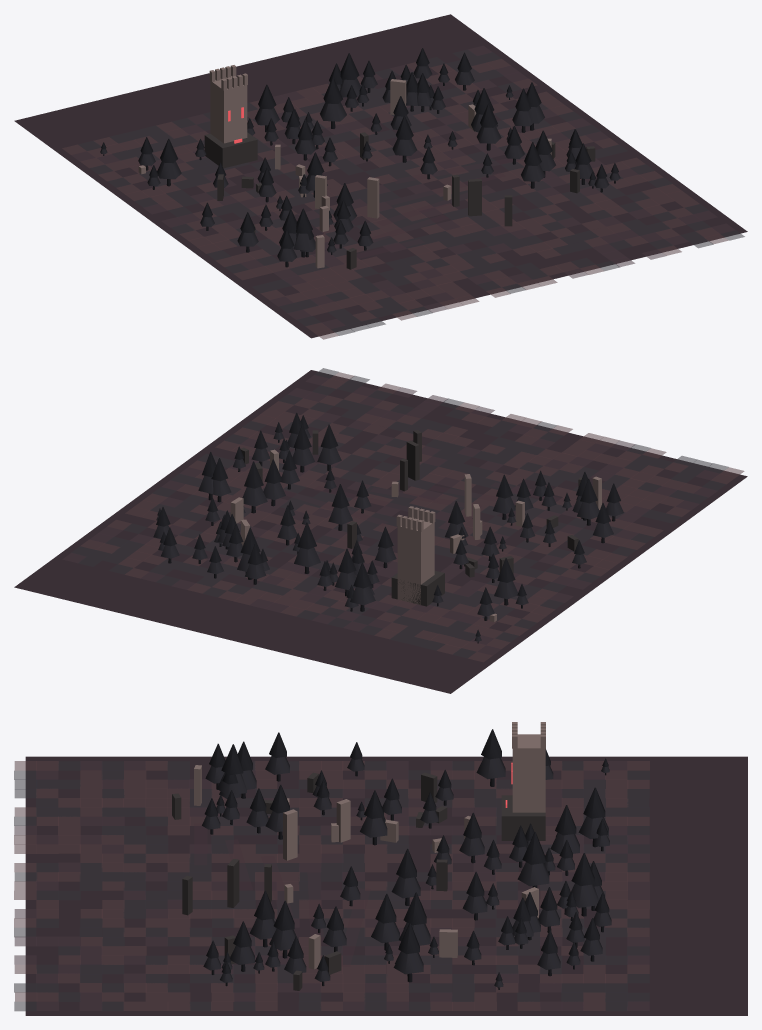
File: bent-horizon-tower-and-pine-ruins-v1.glb
3 views of the same model, one above another, from view 1: azimuth 30°, elevation 25°; view 2: azimuth 150°, elevation 25°; view 3: azimuth 270°, elevation 25° (orthographic). The views are drawn at different scales.
Parts seen in each view (by area): view 1: Bent Horizon Prototype: Tower and Pine Ruins; view 2: Bent Horizon Prototype: Tower and Pine Ruins; view 3: Bent Horizon Prototype: Tower and Pine Ruins.
Boxes of the visible parts, x1,y1,x2,y2 form: Bent Horizon Prototype: Tower and Pine Ruins: (14,14,747,339); Bent Horizon Prototype: Tower and Pine Ruins: (14,368,747,693); Bent Horizon Prototype: Tower and Pine Ruins: (14,722,747,1015).
Bounding box in the file's own units: 112 × 20.45 × 134.
